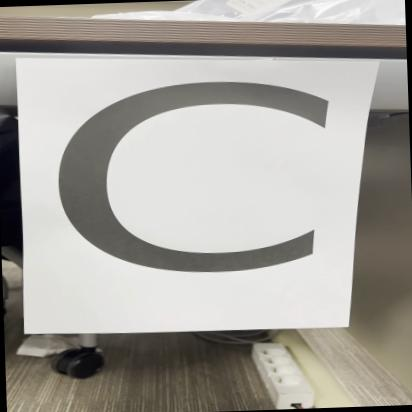seat: (18, 50, 369, 334)
